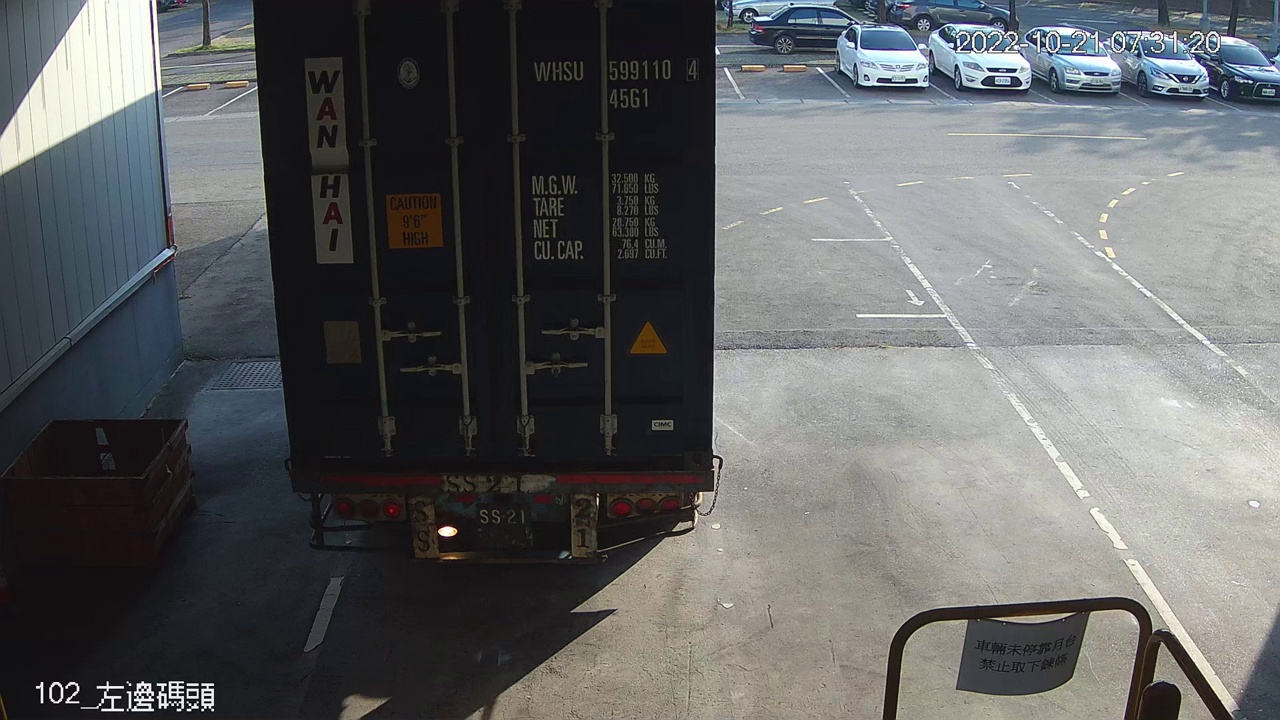container: (528, 49, 707, 117)
